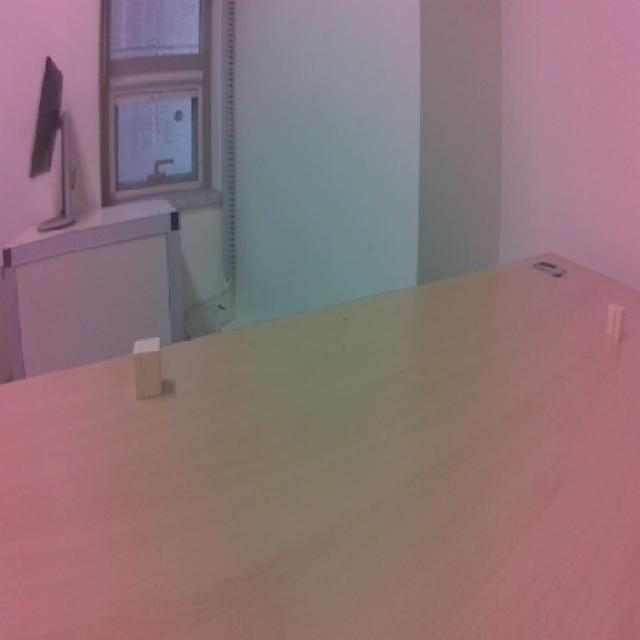obstacle: (118, 329, 177, 406)
